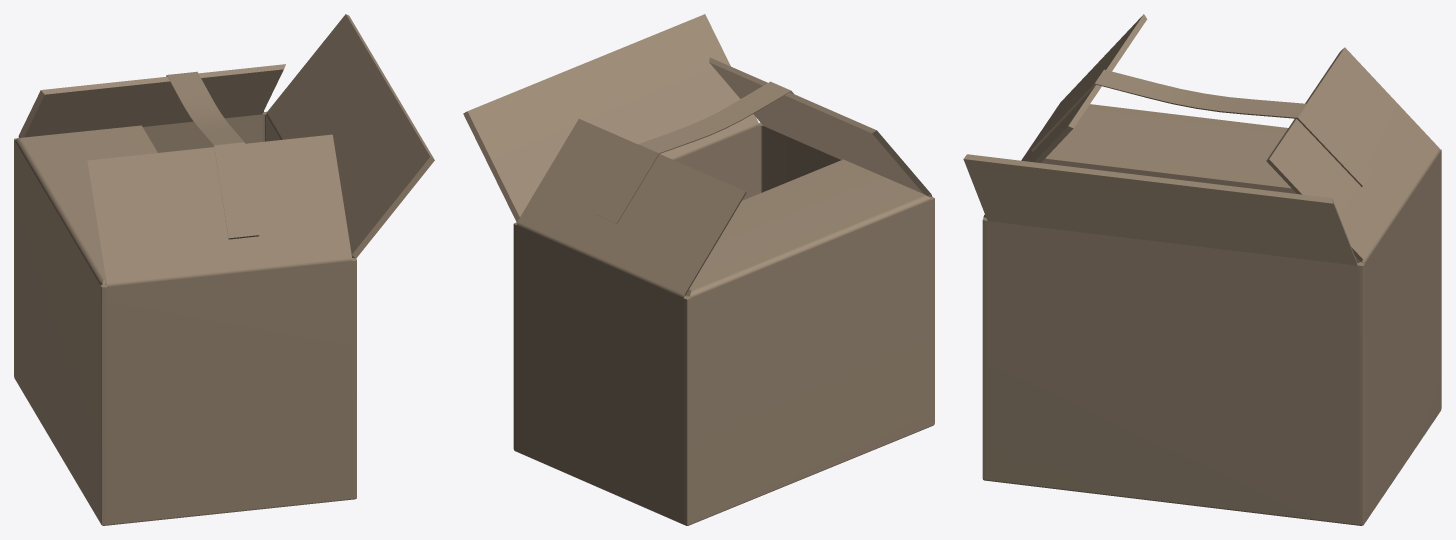
The picture shows the model from 3 angles, left to right: view 1: azimuth 30°, elevation 25°; view 2: azimuth 150°, elevation 25°; view 3: azimuth 270°, elevation 25°; orthographic projection. The views are drawn at different scales.
Parts seen in each view (by area): view 1: BOX12, Box12_2; view 2: BOX12, Box12_2; view 3: BOX12, Box12_2.
Part boxes in pixels (bbox=[...]): BOX12: bbox=[14, 14, 434, 525]; Box12_2: bbox=[166, 71, 259, 239]; BOX12: bbox=[463, 14, 934, 525]; Box12_2: bbox=[596, 81, 793, 223]; BOX12: bbox=[963, 14, 1441, 525]; Box12_2: bbox=[1031, 69, 1372, 186].
Bounding box in the file's own units: 0.6498 × 0.5593 × 0.6639.
